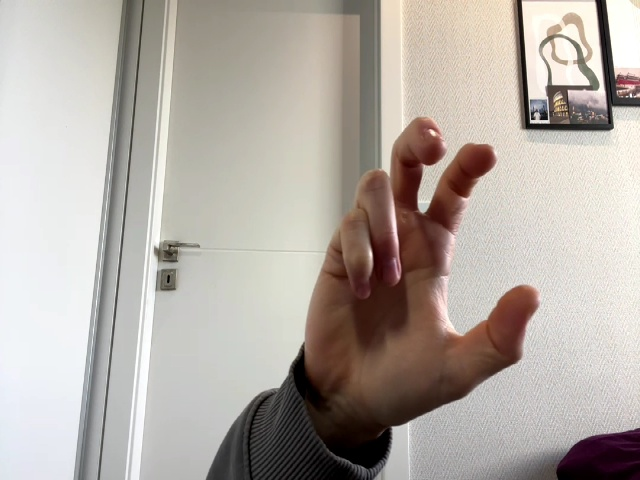CH: (305, 118, 541, 419)
